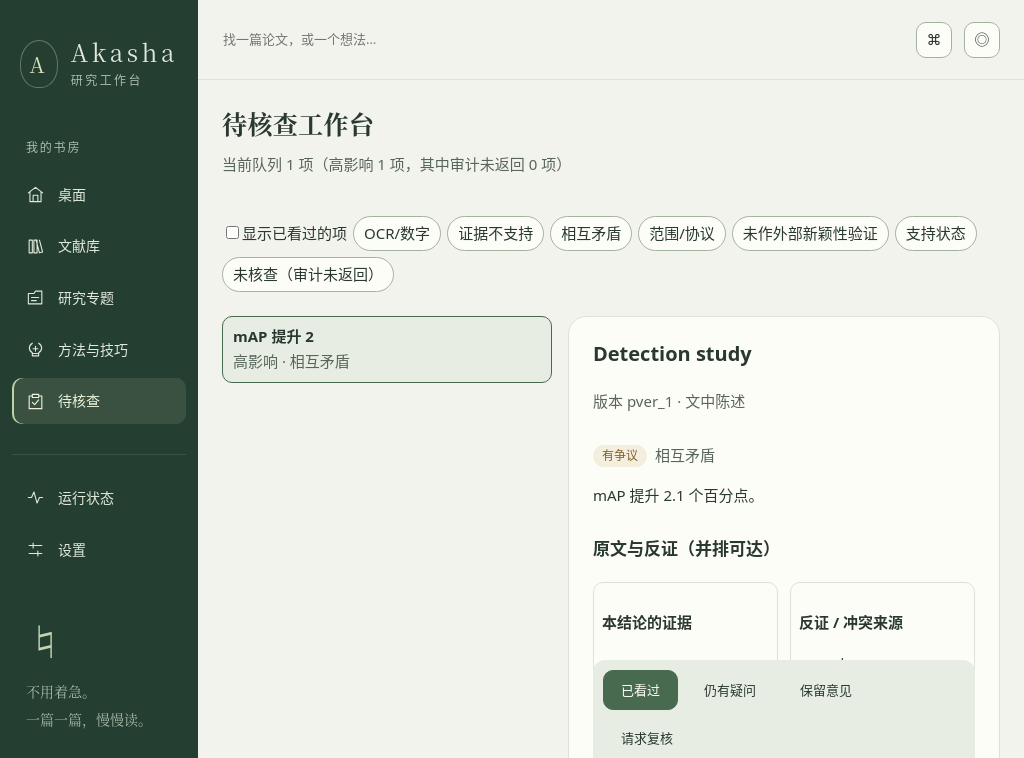
UX-033 review decision is personal, not scientific › records the decision with the claim revision and leaves support_state alone
Click the button "已看过". click: (640, 690)
box: [603, 670, 678, 710]
(page scrolled)
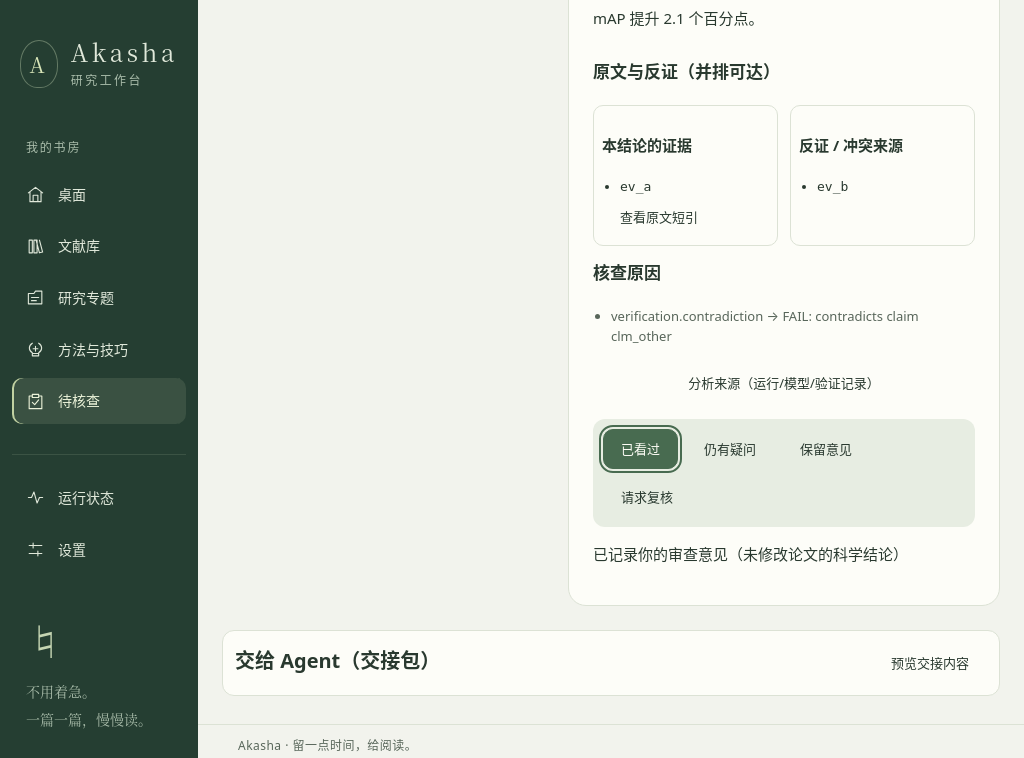
Check: the message with test id "decision-note" shows "已记录你的审查意见", box [593, 544, 908, 564]
Check: the message with test id "decision-note" shows "未修改论文的科学结论", box [593, 544, 908, 564]
